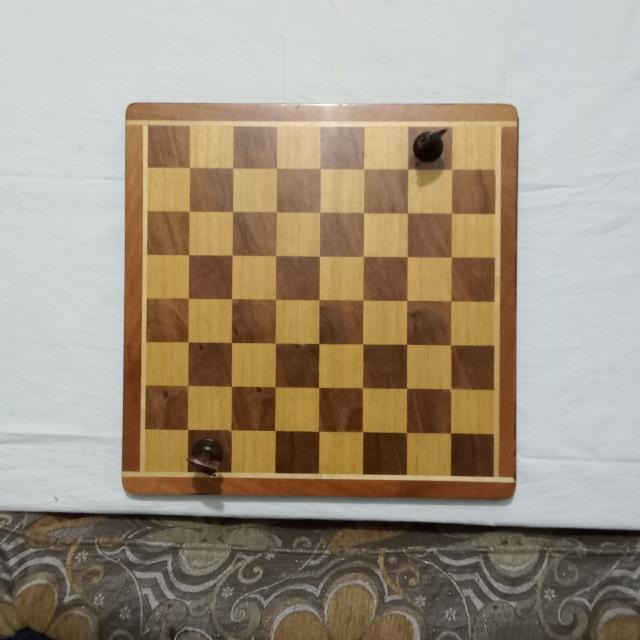black-knight: (187, 437, 227, 478), (411, 124, 449, 163)
